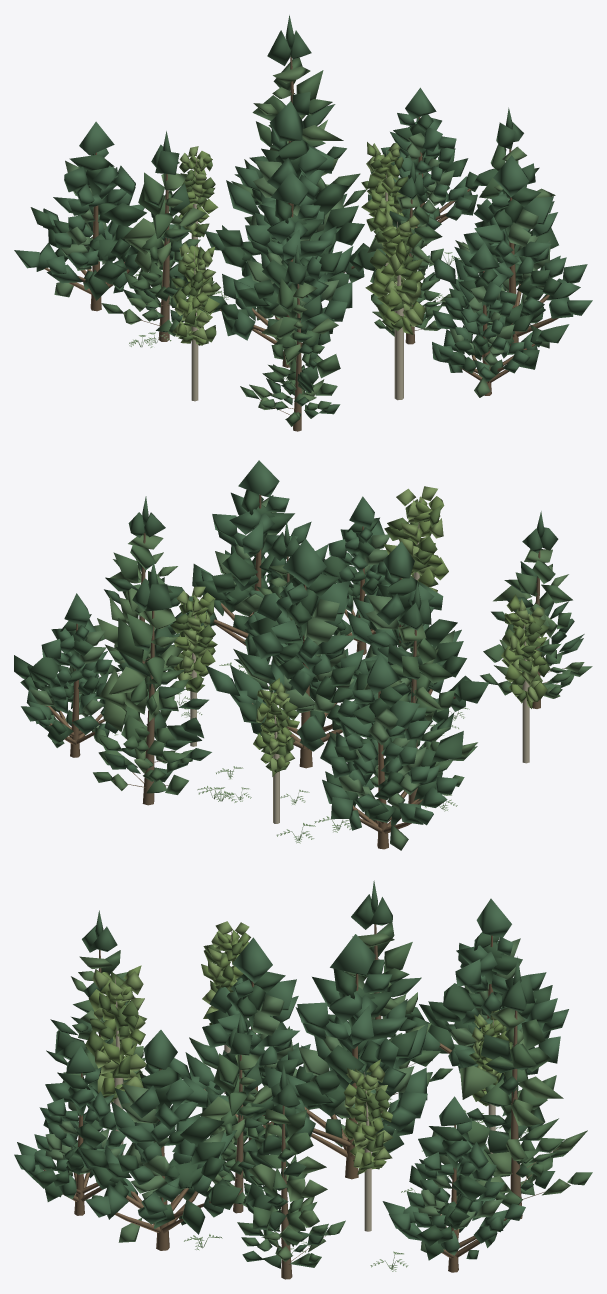
Rendered from forest-stand.glb.
3 views of the same model, one above another, from view 1: azimuth 30°, elevation 25°; view 2: azimuth 150°, elevation 25°; view 3: azimuth 270°, elevation 25° (orthographic). The views are drawn at different scales.
Bounding box in the file's own units: 28.01 × 14.03 × 28.5.
